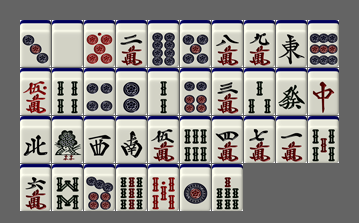0m: (20, 68, 51, 115)
0p: (84, 20, 115, 67)
0s: (148, 164, 179, 211)
1m: (276, 116, 307, 163)
1p: (180, 164, 211, 211)
1s: (52, 116, 83, 163)
1z: (276, 20, 307, 67)
2m: (116, 20, 147, 67)
2p: (116, 68, 147, 115)
2s: (148, 68, 179, 115)
2z: (116, 116, 147, 163)
3m: (212, 68, 243, 115)
3p: (20, 20, 51, 67)
3s: (244, 68, 275, 115)
3z: (84, 116, 115, 163)
4m: (212, 116, 243, 163)
4p: (84, 68, 115, 115)
4s: (52, 68, 83, 115)
4z: (20, 116, 51, 163)
5m: (148, 116, 179, 163)
5p: (180, 20, 211, 67)
5s: (308, 116, 339, 163)
5z: (52, 20, 83, 67)
6m: (20, 164, 51, 211)
6p: (180, 68, 211, 115)
6s: (180, 116, 211, 163)
6z: (276, 68, 307, 115)
7m: (244, 116, 275, 163)
7p: (84, 164, 115, 211)
7s: (212, 164, 243, 211)
7z: (308, 68, 339, 115)
8m: (212, 20, 243, 67)
8p: (148, 20, 179, 67)
8s: (52, 164, 83, 211)
9m: (244, 20, 275, 67)
9p: (308, 20, 339, 67)
9s: (116, 164, 147, 211)
